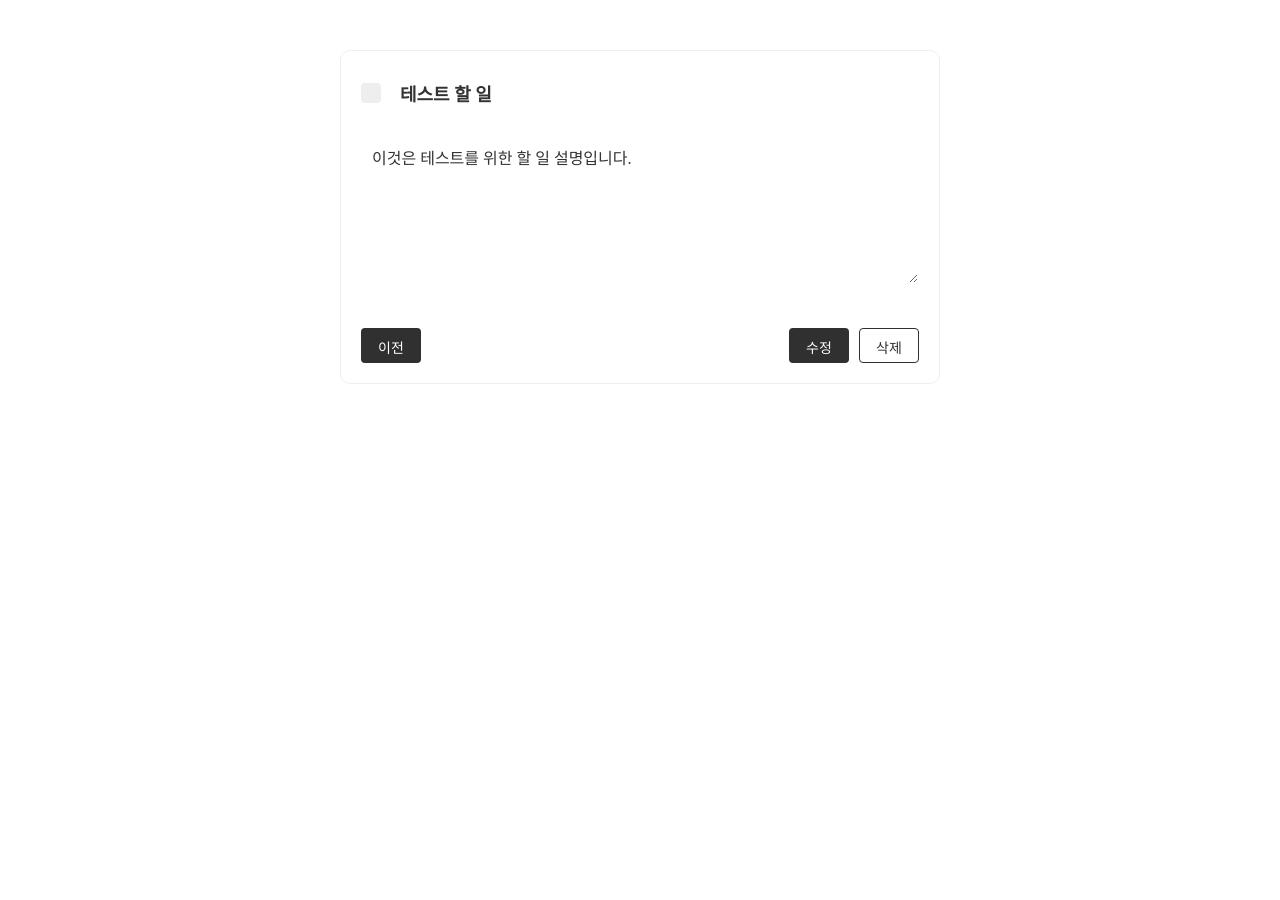
Test: TodoDetail 컴포넌트 › 에러 발생 시 에러 메시지가 표시된다
Click the button "수정".
click(819, 346)  # box [789,328,849,363]
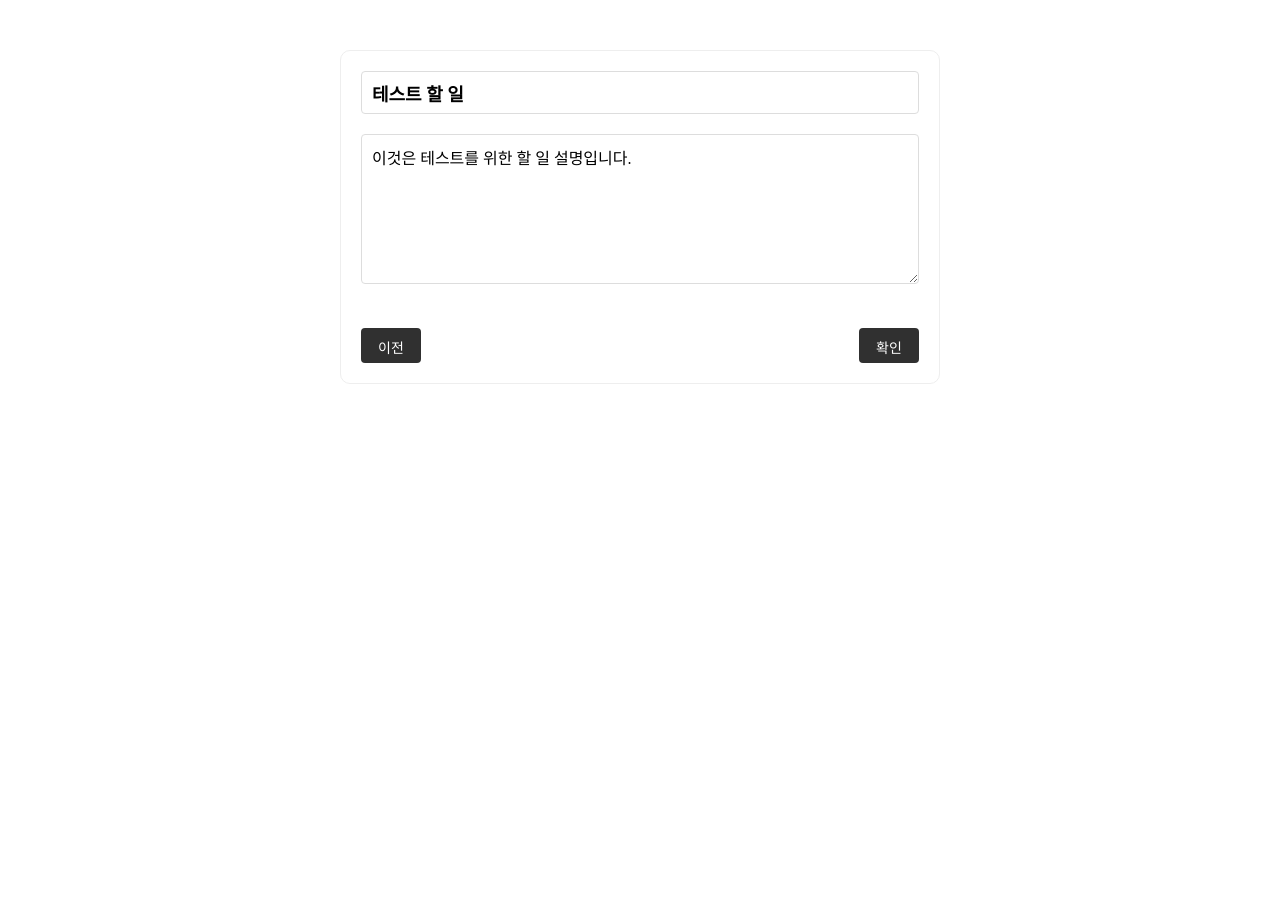
Click the button "확인".
click(889, 346)  # box [859,328,919,363]
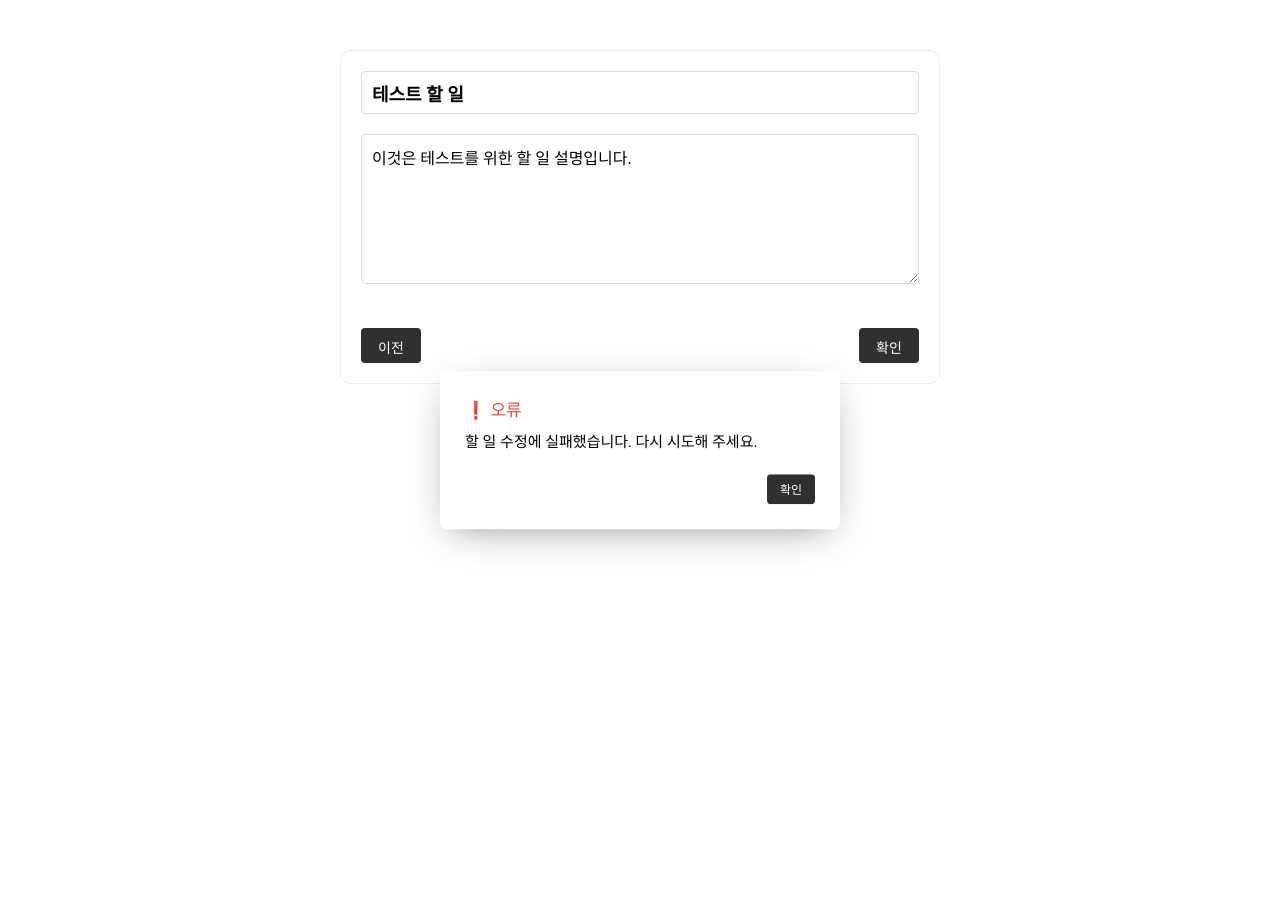
Now the text "할 일 수정에 실패했습니다. 다시 시도해 주세요." is shown, box [465,434,757,450]
